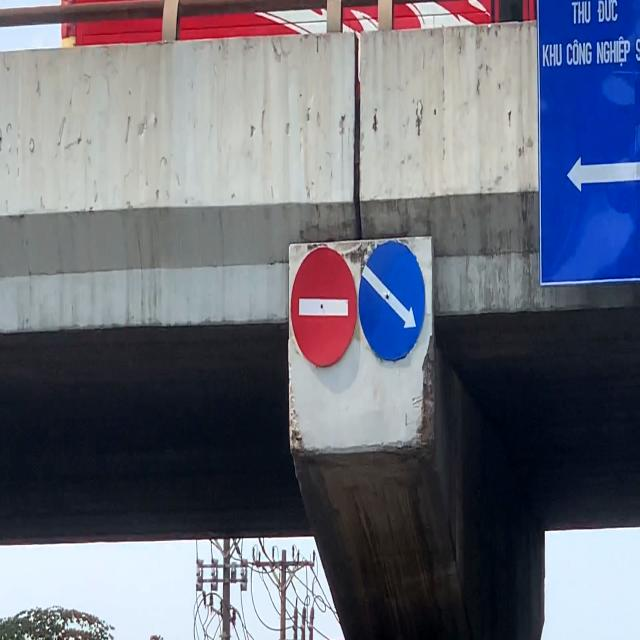P.102: (291, 247, 357, 367)
R.302a: (358, 240, 426, 361)
